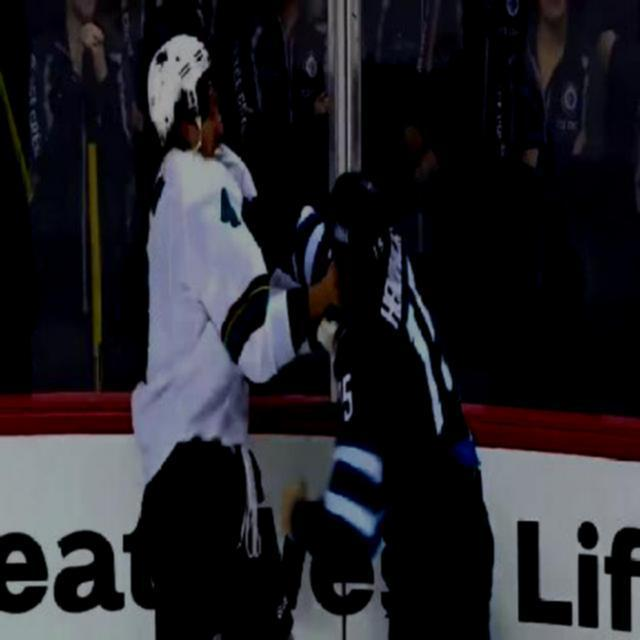fight: (143, 30, 500, 639)
